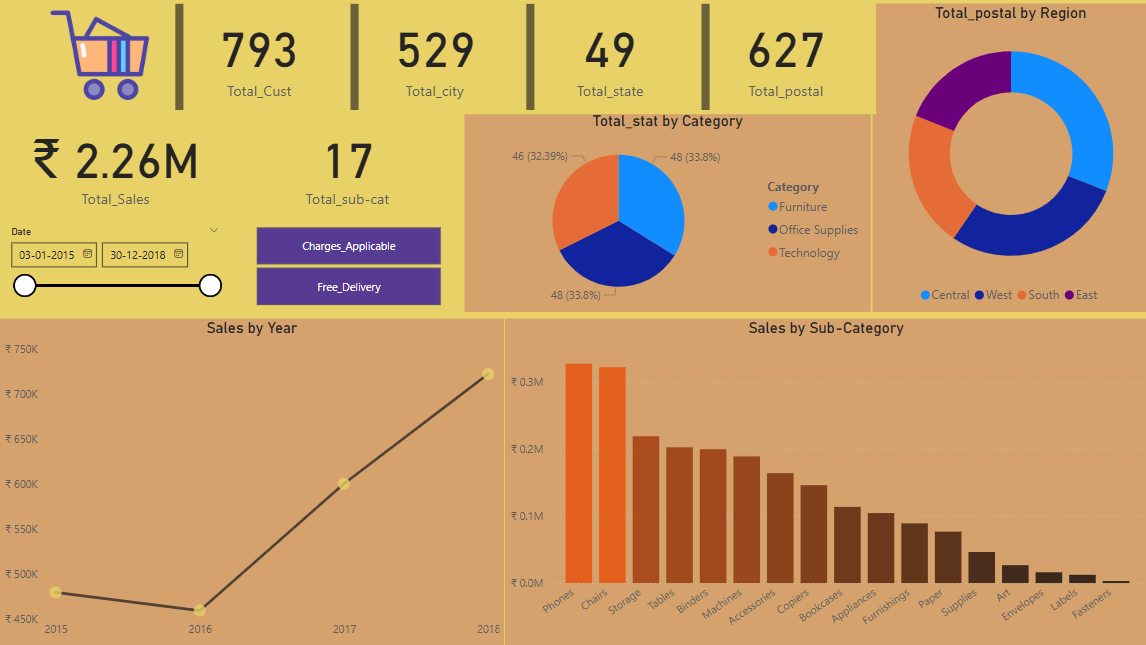

What the dashboard file says about the page in this screenshot:
{"tool":"powerbi","page":{"name":"Page 1","canvas":[1280,720],"ordinal":0},"visuals":[{"type":"card","fields":{"Values":["Table.Total_Sales"]},"box":[1.4,124.3,257.1,115.7],"z":0},{"type":"card","fields":{"Values":["Table.Total_sub-cat"]},"box":[260,124.3,255.7,115.7],"z":1000},{"type":"slicer","fields":{"Values":["Table.Delivery"]},"box":[261.4,247.1,254.3,100],"z":2000},{"type":"lineChart","title":"Sales by Year","fields":{"Category":["Table.Year"],"Y":["Sum(Table.Sales)"]},"box":[1.5,354.5,560.6,363.6],"z":3000},{"type":"clusteredColumnChart","title":" Sales by Sub-Category","fields":{"Y":["Sum(Table.Sales)"],"Category":["Table.Sub-Category"]},"box":[563.6,354.5,713.6,363.6],"z":4000},{"type":"pieChart","fields":{"Category":["Table.Category"],"Y":["Table.Total_stat"]},"box":[518.6,124.3,451.4,222.9],"z":5000},{"type":"donutChart","fields":{"Category":["Table.Region"],"Y":["Table.Total_postal"]},"box":[971.4,4.3,307.1,342.9],"z":6000},{"type":"slicer","fields":{"Values":["Table.Order Date"]},"box":[1.4,247.1,255.7,100],"z":7000},{"type":"image","box":[1.5,0,222.7,124.2],"z":8000},{"type":"cardVisual","fields":{"Data":["Table.Top5-Cust","Table.Total_city","Table.Total_stat","Table.Total_postal"]},"box":[224,0,745,122],"z":9000}]}

Visuals, with their boxes in screenshot pixels (x1, y1, x2, y2), scaled from the page's 1280x720 canvas onto the 1146x645 screenshot:
card - Table.Total_Sales: {"left": 1, "top": 111, "right": 231, "bottom": 215}
card - Table.Total_sub-cat: {"left": 233, "top": 111, "right": 462, "bottom": 215}
slicer - Table.Delivery: {"left": 234, "top": 221, "right": 462, "bottom": 311}
"Sales by Year" lineChart: {"left": 1, "top": 318, "right": 503, "bottom": 643}
" Sales by Sub-Category" clusteredColumnChart: {"left": 505, "top": 318, "right": 1143, "bottom": 643}
pieChart - Table.Category x Table.Total_stat: {"left": 464, "top": 111, "right": 868, "bottom": 311}
donutChart - Table.Region x Table.Total_postal: {"left": 870, "top": 4, "right": 1145, "bottom": 311}
slicer - Table.Order Date: {"left": 1, "top": 221, "right": 230, "bottom": 311}
image: {"left": 1, "top": 0, "right": 201, "bottom": 111}
cardVisual - Table.Top5-Cust x Table.Total_city: {"left": 201, "top": 0, "right": 868, "bottom": 109}
